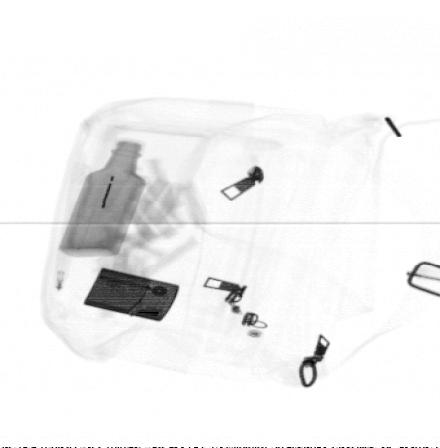Lighter: (83, 268, 180, 322)
